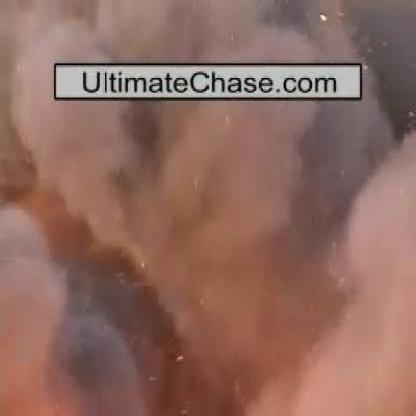-: (30, 108, 390, 340), (44, 3, 362, 62)
